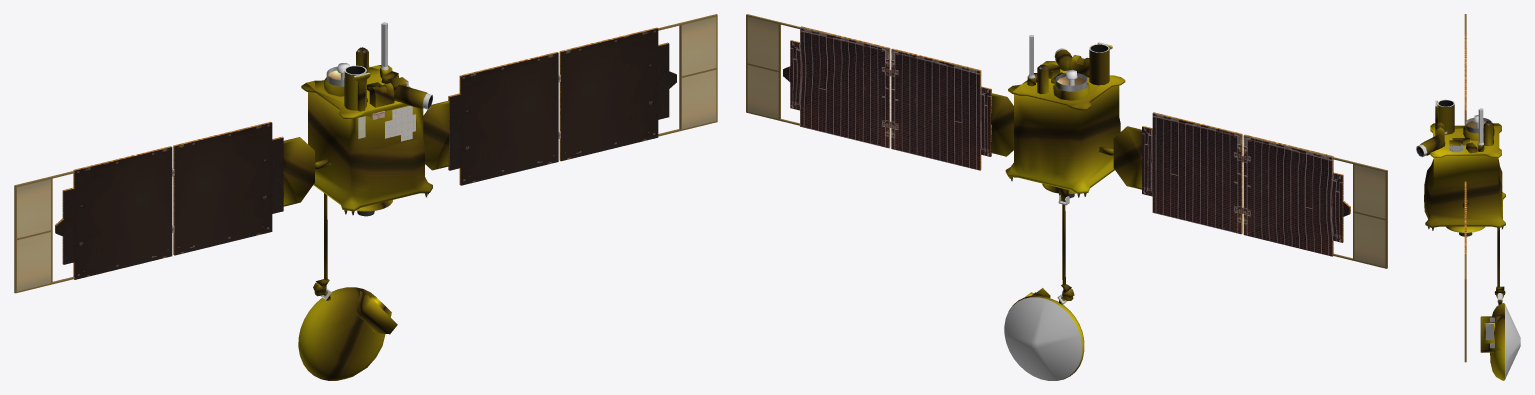
The model's file is mgs_lod1.glb.
3 renders of one model, left to right at view 1: azimuth 30°, elevation 25°; view 2: azimuth 150°, elevation 25°; view 3: azimuth 270°, elevation 25°, orthographic. The views are drawn at different scales.
Visible parts, largest first — view 1: mgs_lod1; view 2: mgs_lod1; view 3: mgs_lod1.
Part boxes in pixels (<box>): mgs_lod1: <box>14,14,717,380</box>; mgs_lod1: <box>746,14,1387,380</box>; mgs_lod1: <box>1416,14,1520,380</box>.
Bounding box in the file's own units: 12.3 × 6.02 × 2.05.
Materials: 8 (5 with a texture image).
